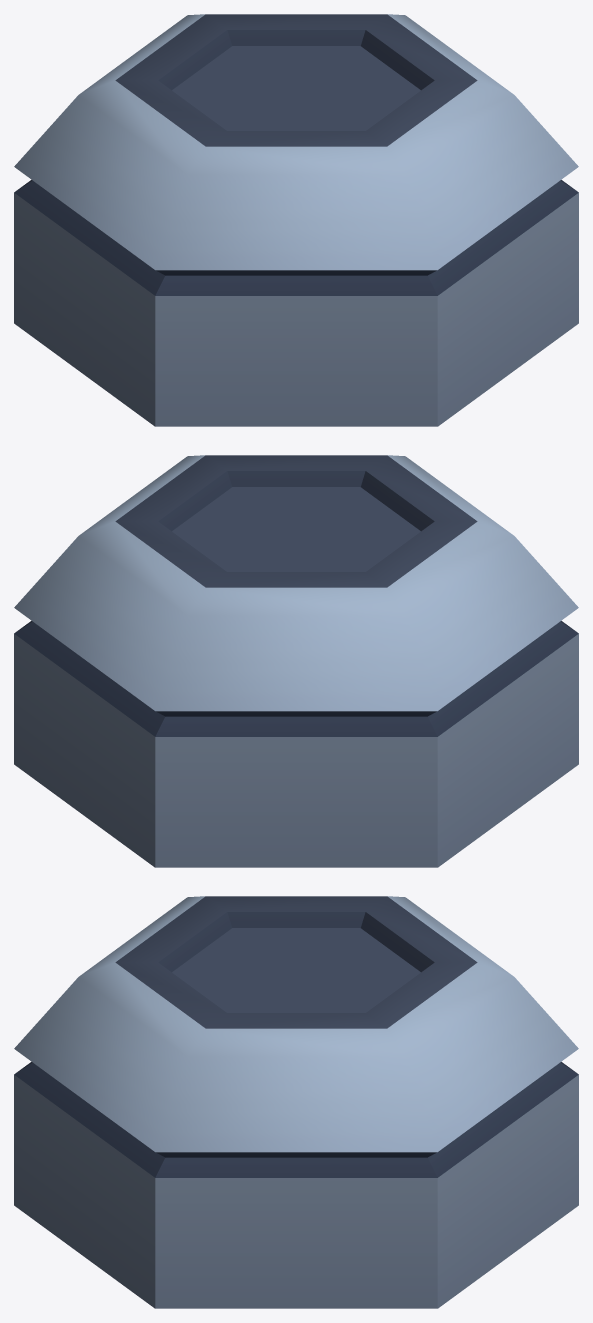
Rendered from Pillar 11.FBX.
3 renders of one model, top to bottom at view 1: azimuth 30°, elevation 25°; view 2: azimuth 150°, elevation 25°; view 3: azimuth 270°, elevation 25°, orthographic.
Parts seen in each view (by area): view 1: Pillar 11; view 2: Pillar 11; view 3: Pillar 11.
Part boxes in pixels (x1,y1,x2,y2): Pillar 11: [14, 14, 578, 426]; Pillar 11: [14, 455, 578, 867]; Pillar 11: [14, 896, 578, 1308].
Bounding box in the file's own units: 280 × 153 × 323.
1 material, 1 textured.
